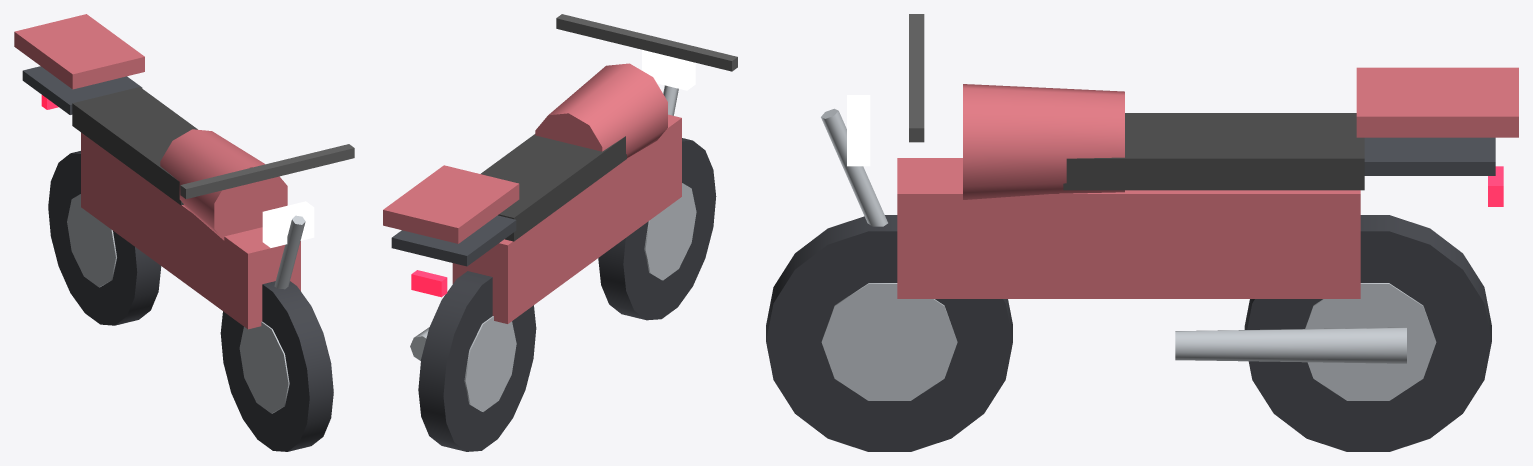
Rendered from okada.glb.
3 views of the same model, side by side, from view 1: azimuth 30°, elevation 25°; view 2: azimuth 150°, elevation 25°; view 3: azimuth 270°, elevation 25° (orthographic). The views are drawn at different scales.
Visible parts, largest first — view 1: okada; view 2: okada; view 3: okada.
Boxes of the visible parts, x1=… form: okada: x1=14, y1=14, x2=354, y2=451; okada: x1=383, y1=14, x2=737, y2=451; okada: x1=766, y1=14, x2=1518, y2=451.
Size of the model in its own units: 0.7 by 1.07 by 1.95.
